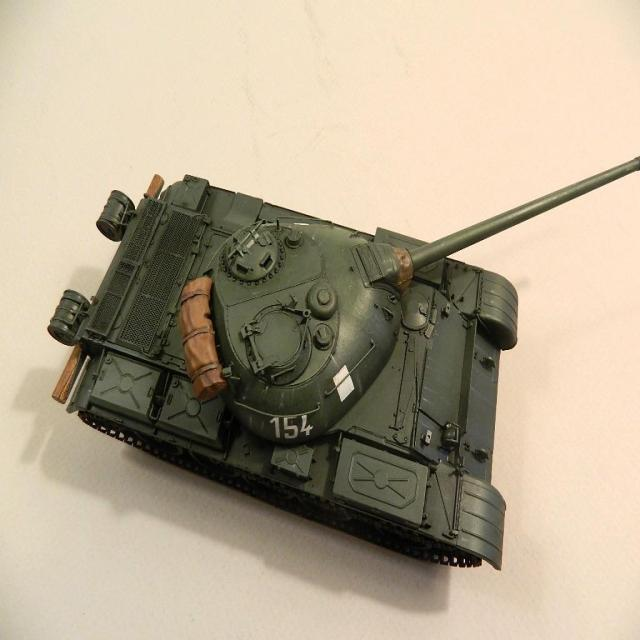Tanks: (52, 114, 536, 594)
